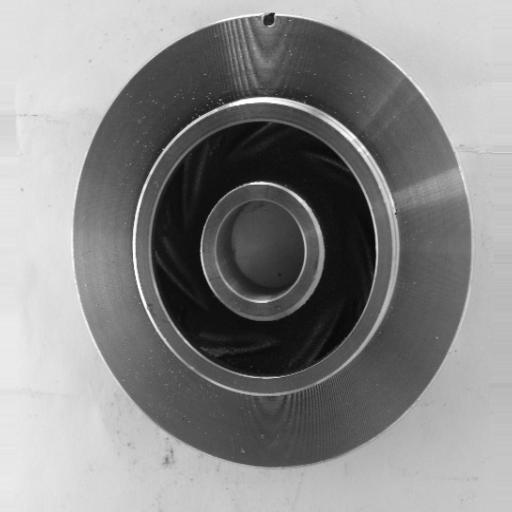crack: (254, 7, 287, 34)
unpolished_casting: (72, 10, 469, 471)
